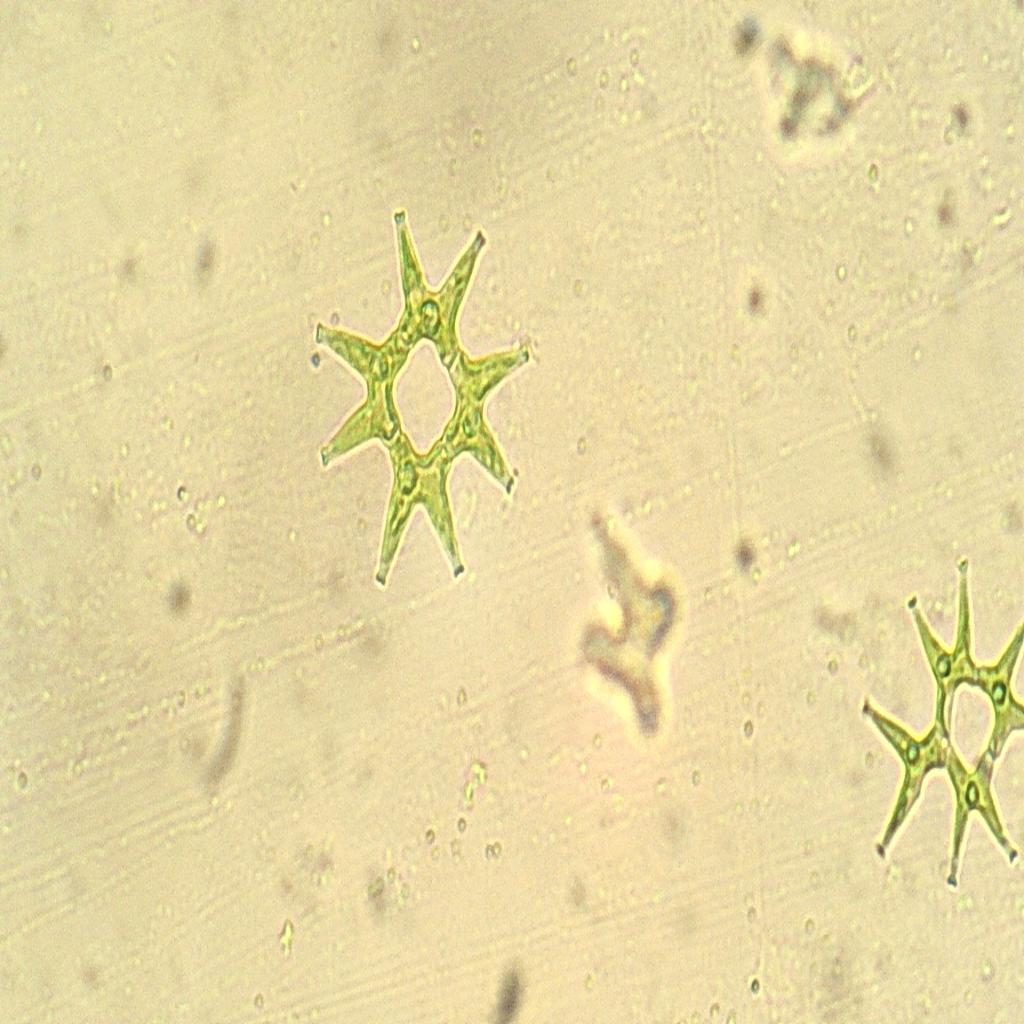Pediastrum_75O: (285, 191, 559, 619)
